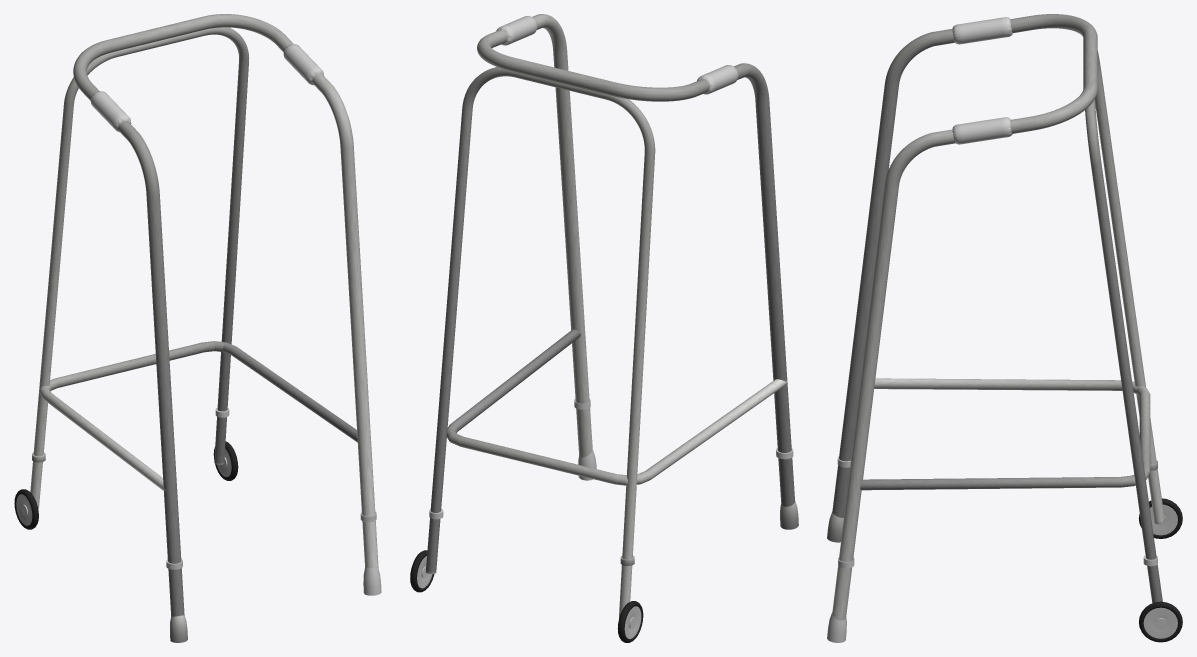
File: crusches.FBX
The picture shows the model from 3 angles, left to right: view 1: azimuth 30°, elevation 25°; view 2: azimuth 150°, elevation 25°; view 3: azimuth 270°, elevation 25°; orthographic projection. The views are drawn at different scales.
Parts seen in each view (by area): view 1: Loft001; view 2: Loft001; view 3: Loft001.
Boxes of the visible parts, left/top/right/bottom form: Loft001: left=14, top=14, right=381, bottom=642; Loft001: left=410, top=14, right=798, bottom=642; Loft001: left=827, top=14, right=1182, bottom=642.
Bounding box in the file's own units: 4.33 × 9.85 × 5.97.
Materials: 3 (1 with a texture image).
